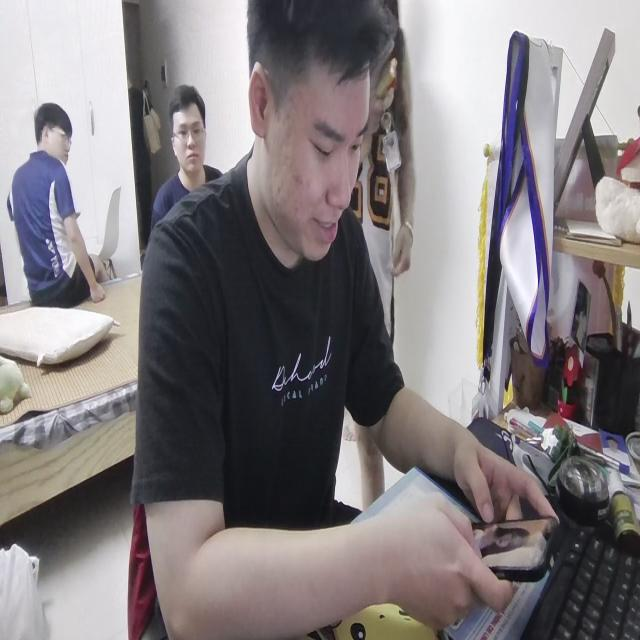extra_person: (8, 100, 108, 299), (149, 85, 227, 214)
phone: (471, 509, 560, 581)
student: (133, 0, 557, 633)
